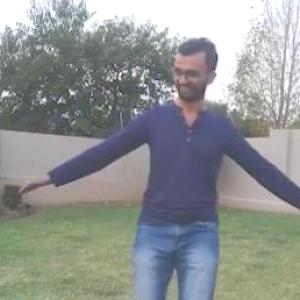land: (30, 39, 299, 299)
